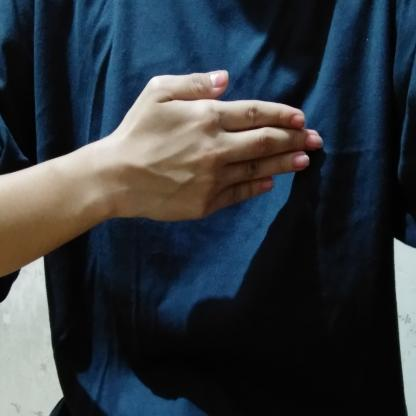ready: (80, 64, 332, 233)
